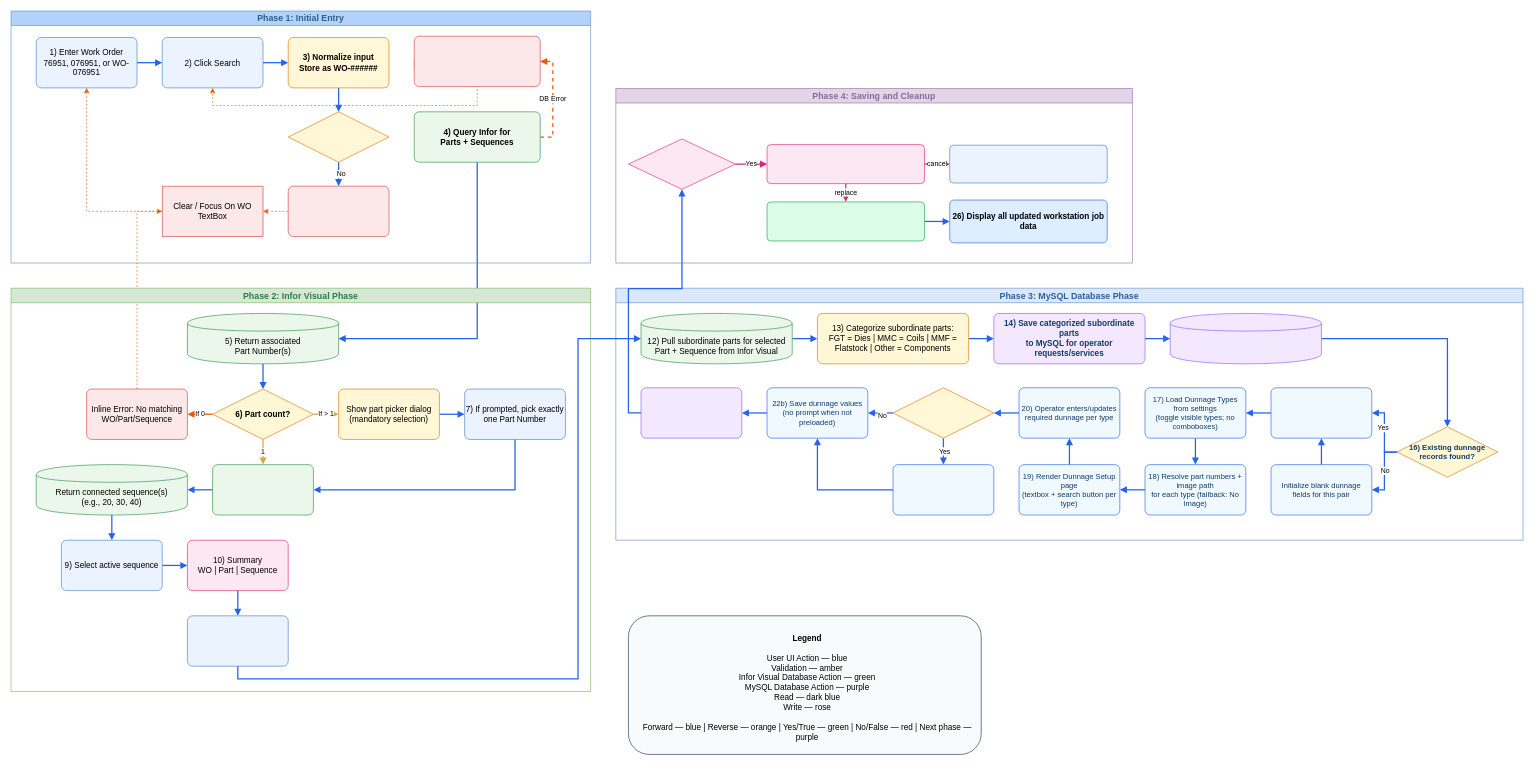
This 1534x766 diagram has some shape labels left out. The centre of each missing label's shape, as x and y in pixels:
11) Confirm selection: (x=237, y=640)
15) Query MySQL dunnage by Part + Sequence pair: (x=1245, y=338)
21) Edited values originated from MySQL?: (x=943, y=412)
22a) Prompt user to confirm changes to preloaded values: (x=943, y=489)
23) Dunnage setup finalized: (x=691, y=412)
24) Existing active job?: (x=682, y=163)
25) Save active job + audit: (x=845, y=221)
8) Show sequence list for WO + selected Part: (x=262, y=489)
Keep existing job Do nothing; stay on current page: (x=1028, y=164)
Load existing dunnage values into setup page: (x=1321, y=412)
Show database error; allow Search again after 5 seconds when connection-related: (x=477, y=61)
Show inline format error: (x=338, y=211)
Show replacement confirmation: (x=845, y=164)
Valid format?: (x=338, y=136)
